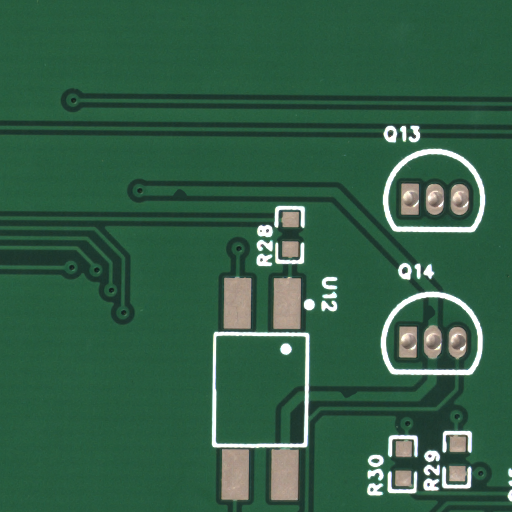Mouse_bite: (349, 394, 370, 404), (430, 311, 441, 329), (179, 192, 197, 201)
